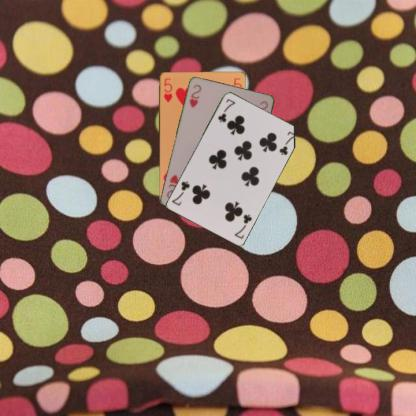2h: (187, 82, 202, 108)
5h: (162, 76, 174, 103)
7c: (232, 211, 253, 240), (215, 96, 236, 124)
